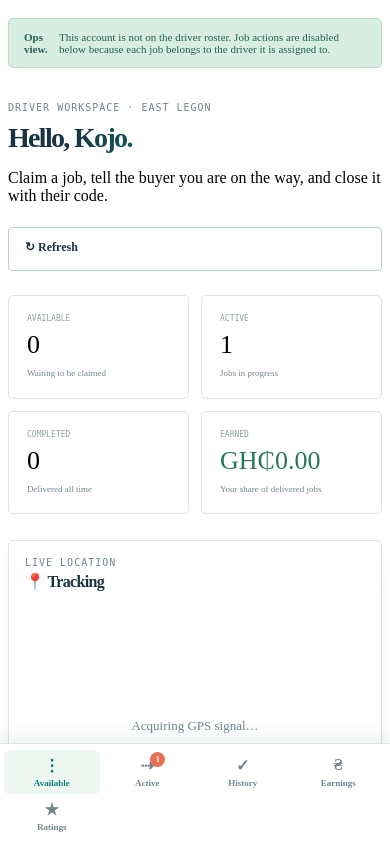
Test: the delivery stepper › shows the steps reached and the one in progress
This screenshot has width=390, height=844.
Click the button "⇢ Active 1": (147, 772) [100,750,195,794]
(page scrolled)
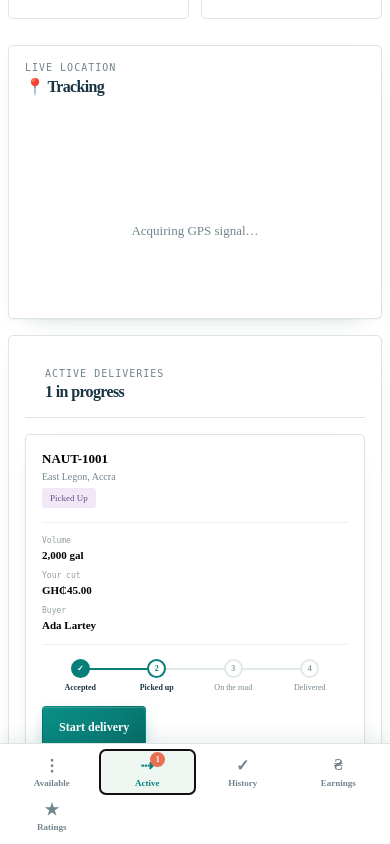
Now the list with class "driver-stepper" is shown, box [42,659,348,692]
Now the text "Accepted" is shown, box [64,683,96,692]
Now the text "Picked up" is shown, box [140,683,174,692]
